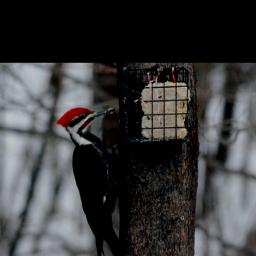Woodpecker: (57, 103, 148, 256)
